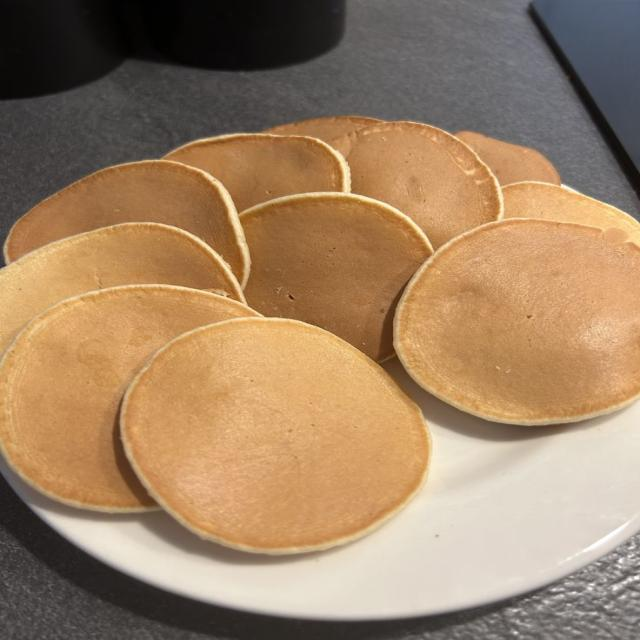pancake: (120, 319, 430, 553), (0, 286, 257, 512), (394, 219, 639, 424), (241, 193, 432, 361), (0, 223, 245, 352), (5, 160, 250, 285), (332, 122, 501, 247), (166, 134, 350, 211), (503, 182, 639, 244), (455, 131, 560, 185), (263, 116, 383, 142)
